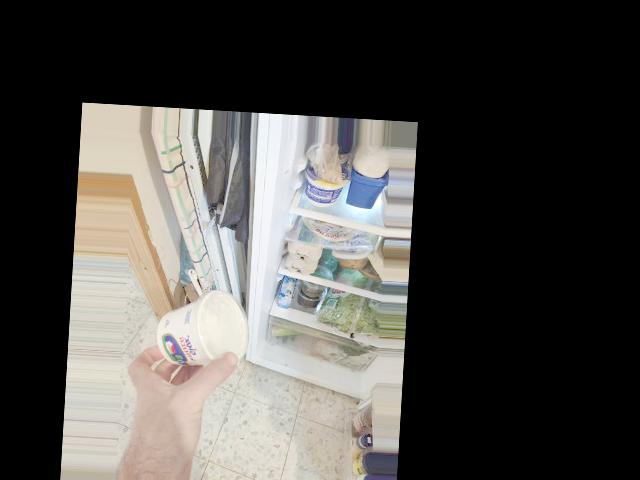cotage: (164, 280, 239, 368)
